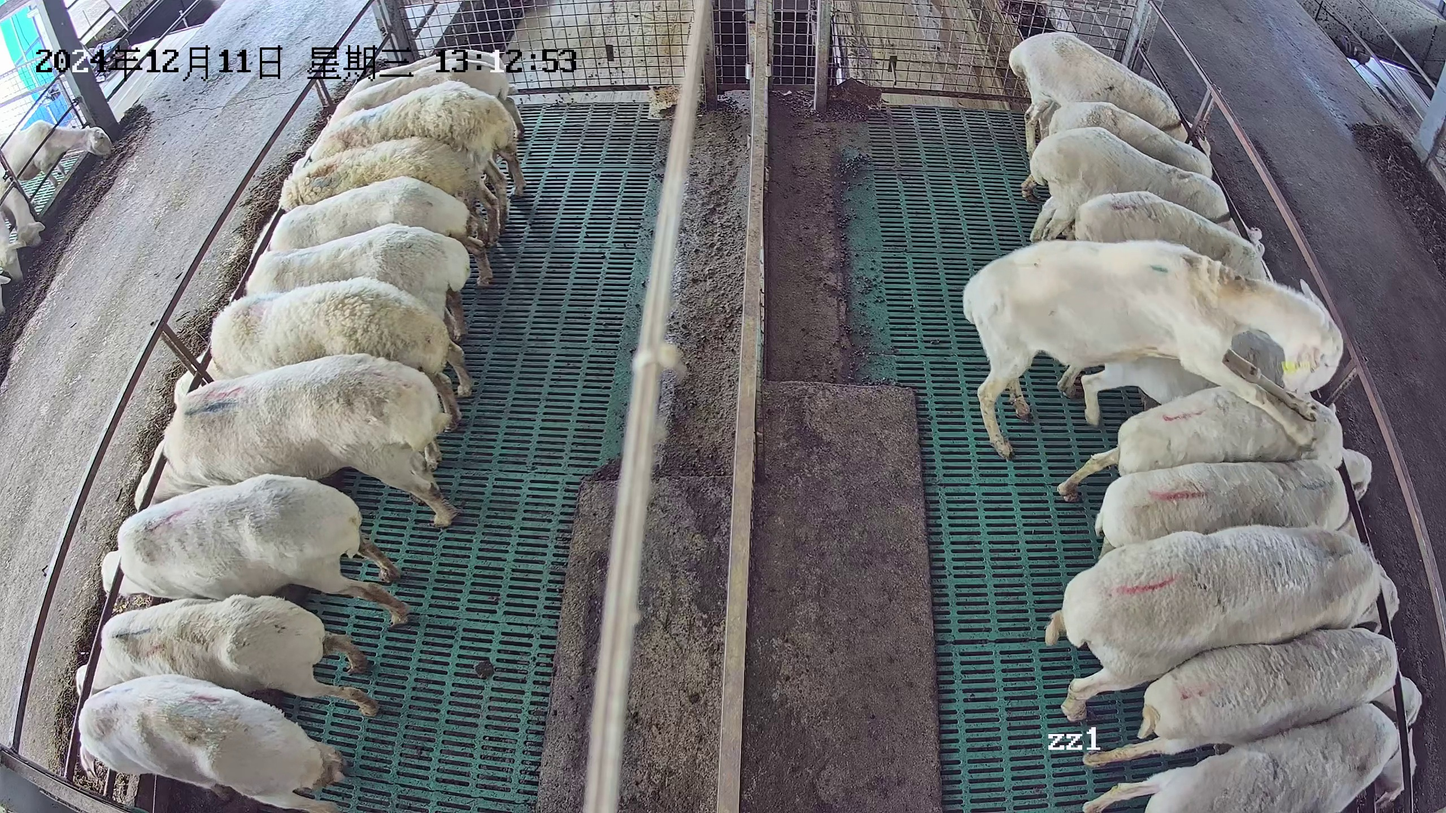Nmounting: (960, 234, 1347, 467)
